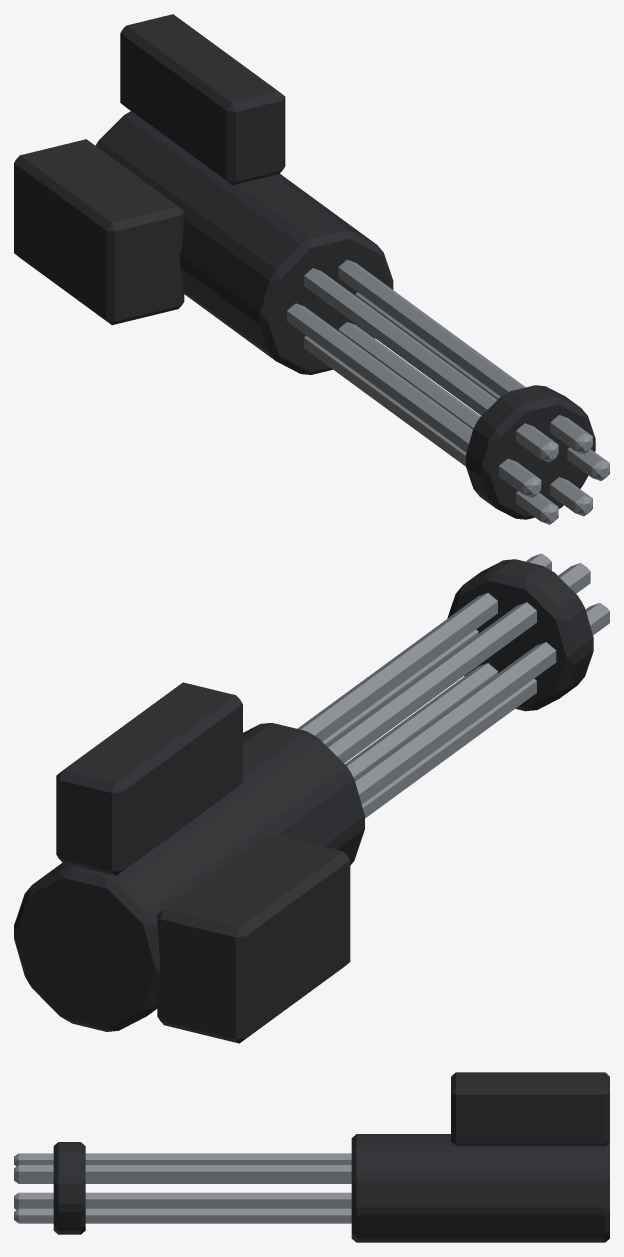
The model's file is Gun_Minigun.fbx.
3 renders of one model, top to bottom at view 1: azimuth 30°, elevation 25°; view 2: azimuth 150°, elevation 25°; view 3: azimuth 270°, elevation 25°, orthographic. The views are drawn at different scales.
Parts seen in each view (by area): view 1: Gun_Minigun; view 2: Gun_Minigun; view 3: Gun_Minigun.
Boxes of the visible parts, box(x1,y1,x2,y2) form: Gun_Minigun: box(14, 14, 609, 524); Gun_Minigun: box(14, 553, 609, 1043); Gun_Minigun: box(14, 1072, 609, 1242).
Bounding box in the file's own units: 0.4163 × 0.4331 × 1.5.
